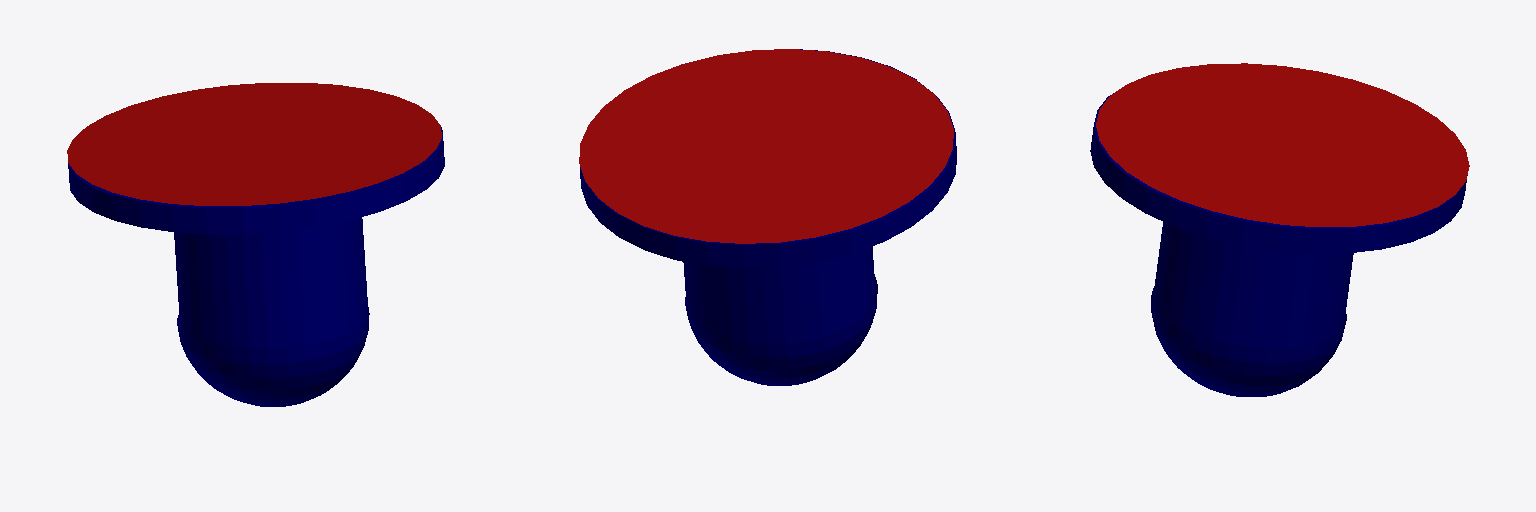
The model's file is mailletFinal.obj.
The picture shows the model from 3 angles: view 1: azimuth 30°, elevation 25°; view 2: azimuth 150°, elevation 25°; view 3: azimuth 270°, elevation 25°; orthographic projection.
Parts seen in each view (by area): view 1: Cylinder; view 2: Cylinder; view 3: Cylinder.
Part boxes in pixels (x1,y1,x2,y2): Cylinder: (67,83,444,406); Cylinder: (579,49,956,385); Cylinder: (1090,63,1469,396).
Bounding box in the file's own units: 3.14 × 2.41 × 3.15.